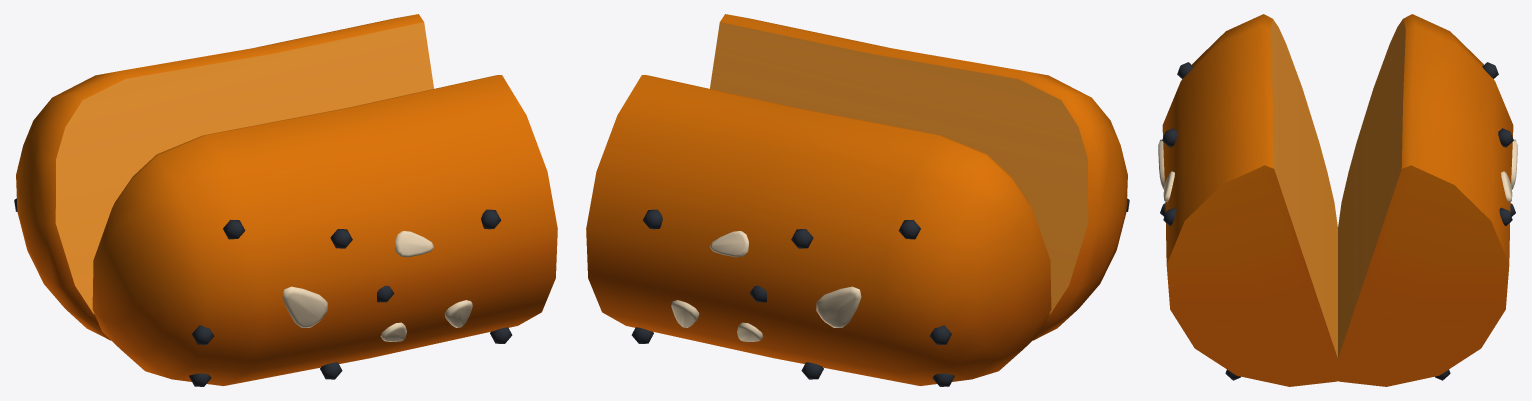
The model's file is HotDog_bun_with_seeds_half.003.fbx.
3 views of the same model, side by side, from view 1: azimuth 30°, elevation 25°; view 2: azimuth 150°, elevation 25°; view 3: azimuth 270°, elevation 25° (orthographic). The views are drawn at different scales.
Visible parts, largest first — view 1: HotDog_bun_with_seeds_half.003; view 2: HotDog_bun_with_seeds_half.003; view 3: HotDog_bun_with_seeds_half.003.
Part boxes in pixels (x1,y1,x2,y2): HotDog_bun_with_seeds_half.003: (14,14,557,386); HotDog_bun_with_seeds_half.003: (586,14,1129,386); HotDog_bun_with_seeds_half.003: (1158,14,1517,386).
Bounding box in the file's own units: 76.52 × 69.2 × 49.72.
